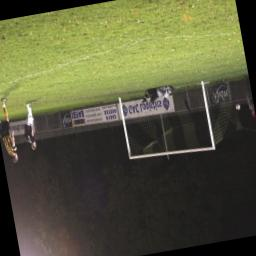football: (236, 104, 240, 110)
